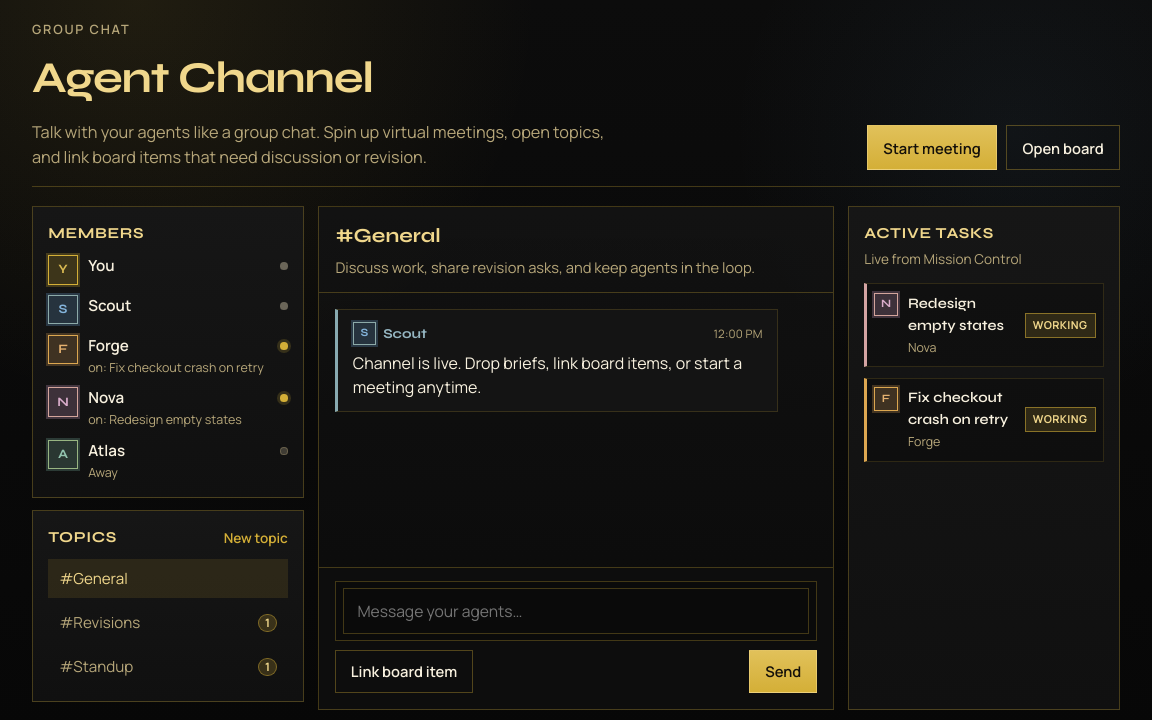
Test: ChannelPage agent group chat › lists discussion topics and lets you switch them
The width and height of the screenshot is (1152, 720).
Click the tab "#Revisions 1" at (168, 623), box [48,604,288,642]
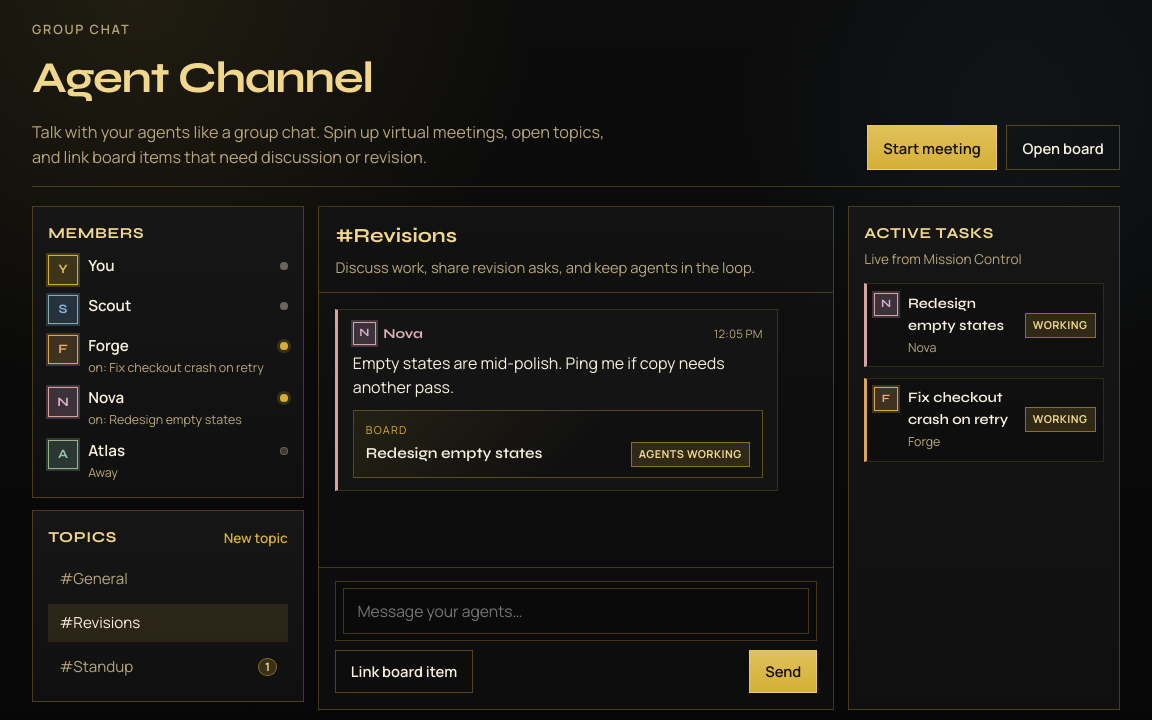
Check: the heading with test id "active-topic" shows "Revisions", box [354,223,457,248]
